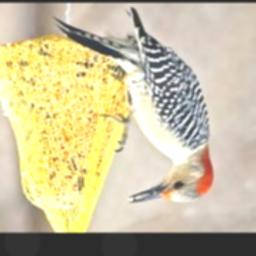Woodpecker: (46, 10, 236, 212)
